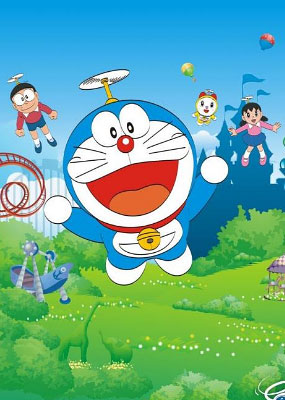Doraemon: (46, 58, 222, 287)
